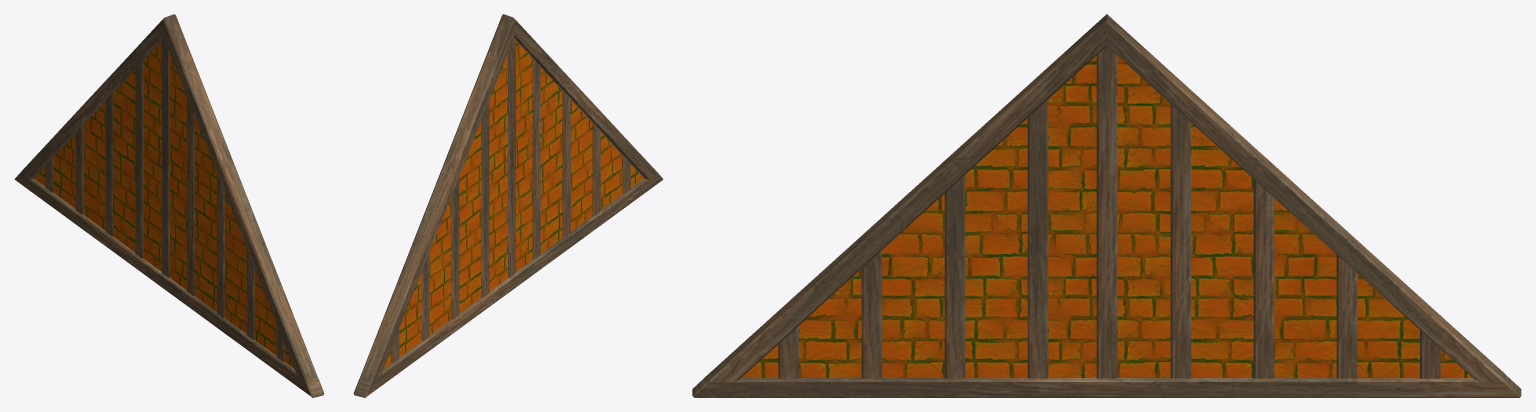
Rendered from SM_wall_roof_01.fbx.
3 views of the same model, side by side, from view 1: azimuth 30°, elevation 25°; view 2: azimuth 150°, elevation 25°; view 3: azimuth 270°, elevation 25° (orthographic). The views are drawn at different scales.
Parts seen in each view (by area): view 1: SM_wall_roof_01_LOD0; view 2: SM_wall_roof_01_LOD0; view 3: SM_wall_roof_01_LOD0.
Part boxes in pixels (x1=…): SM_wall_roof_01_LOD0: x1=14, y1=14, x2=324, y2=397; SM_wall_roof_01_LOD0: x1=353, y1=14, x2=663, y2=397; SM_wall_roof_01_LOD0: x1=692, y1=14, x2=1521, y2=397.
Bounding box in the file's own units: 20 × 800 × 403.
2 materials, 2 textured.
